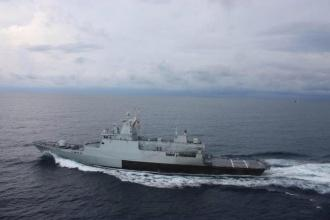warship: (17, 108, 276, 183)
